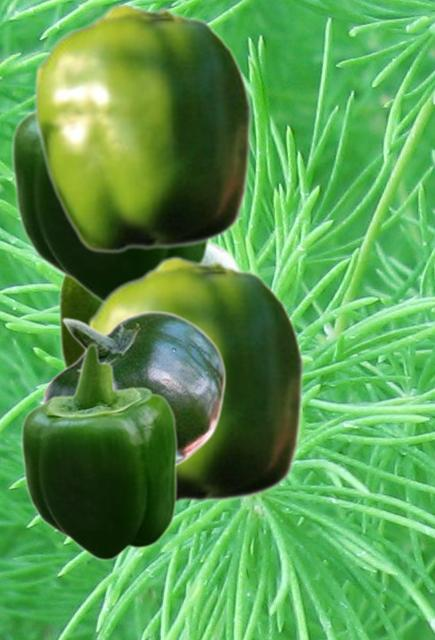bell_pepper: (33, 2, 252, 253), (85, 255, 304, 506), (10, 109, 211, 302), (20, 342, 177, 561), (40, 310, 225, 467), (57, 241, 242, 368)
